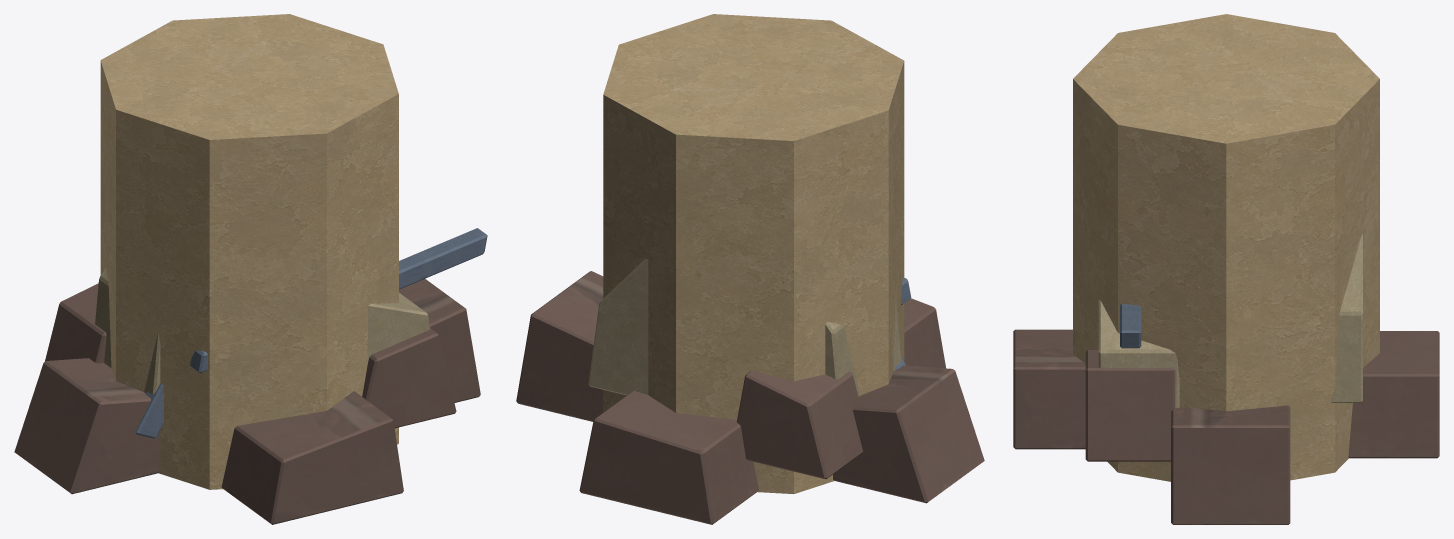
Rendered from env-rubble-large.glb.
3 views of the same model, side by side, from view 1: azimuth 30°, elevation 25°; view 2: azimuth 150°, elevation 25°; view 3: azimuth 270°, elevation 25° (orthographic).
Parts seen in each view (by area): view 1: COL_barrel, VIS_brick, VIS_plaster, VIS_timbersoot; view 2: COL_barrel, VIS_brick, VIS_plaster; view 3: COL_barrel, VIS_brick, VIS_plaster, VIS_timbersoot.
Part boxes in pixels (<box>): COL_barrel: <box>100,14,398,489</box>; VIS_brick: <box>14,279,480,524</box>; VIS_plaster: <box>95,268,429,394</box>; VIS_timbersoot: <box>135,228,487,438</box>; COL_barrel: <box>603,14,904,493</box>; VIS_brick: <box>516,271,984,524</box>; VIS_plaster: <box>588,259,901,396</box>; COL_barrel: <box>1073,14,1379,481</box>; VIS_brick: <box>1013,329,1439,524</box>; VIS_plaster: <box>1098,234,1362,407</box>; VIS_timbersoot: <box>1120,303,1141,348</box>.
Bounding box in the file's own units: 1.1 × 0.9 × 1.
Materials: 3 (3 with a texture image).
